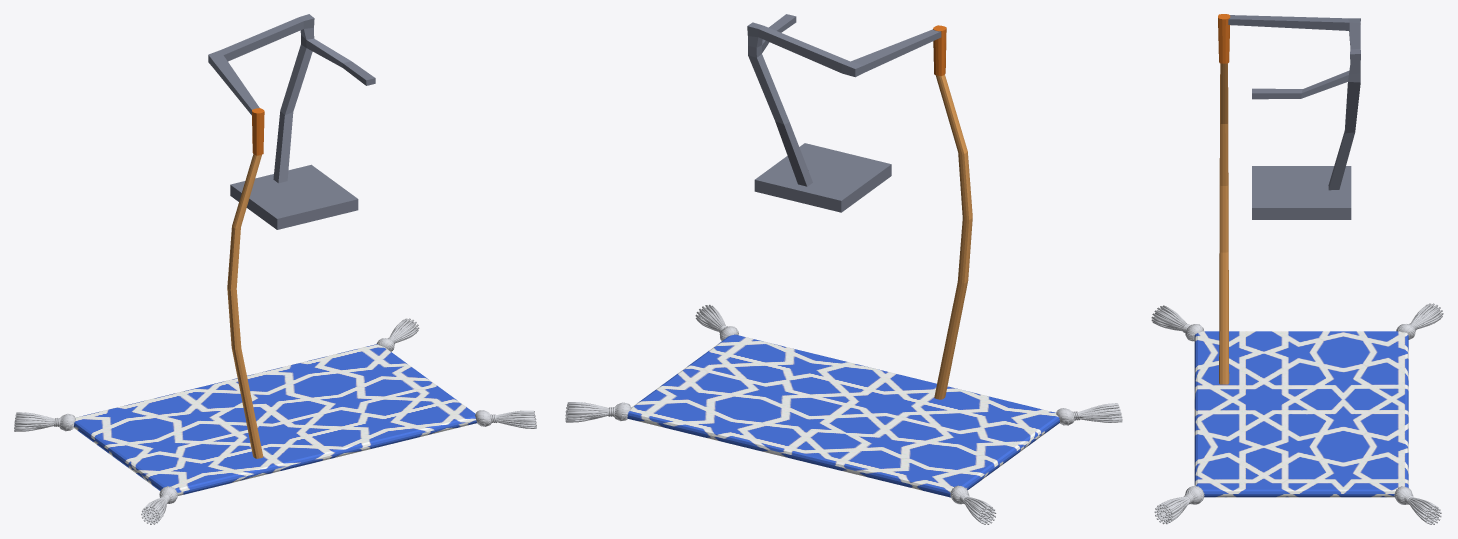
The model's file is Platforma.fbx.
The picture shows the model from 3 angles, left to right: view 1: azimuth 30°, elevation 25°; view 2: azimuth 150°, elevation 25°; view 3: azimuth 270°, elevation 25°; orthographic projection. The views are drawn at different scales.
Visible parts, largest first — view 1: Platforma, Cube.004, Cube.001, Cube.003; view 2: Platforma, Cube.004, Cube.001, Cube.003; view 3: Platforma, Cube.001, Cube.004, Cube.003.
Part boxes in pixels (x1,y1,x2,y2): Platforma: (14, 318, 536, 524); Cube.004: (208, 14, 375, 183); Cube.001: (230, 164, 358, 229); Cube.003: (227, 108, 264, 458); Platforma: (565, 304, 1122, 524); Cube.004: (747, 14, 941, 186); Cube.001: (754, 143, 891, 212); Cube.003: (933, 25, 972, 399); Platforma: (1151, 303, 1443, 524); Cube.001: (1252, 166, 1351, 219); Cube.004: (1228, 15, 1360, 190); Cube.003: (1218, 14, 1230, 384).
Bounding box in the file's own units: 190 × 171 × 113.
